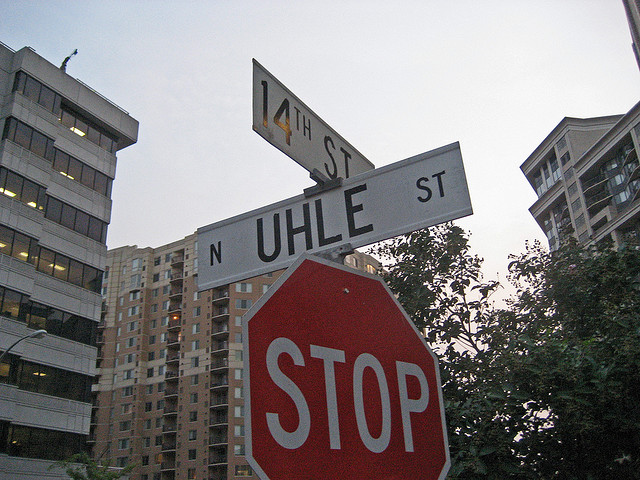Stop: (248, 254, 454, 480)
